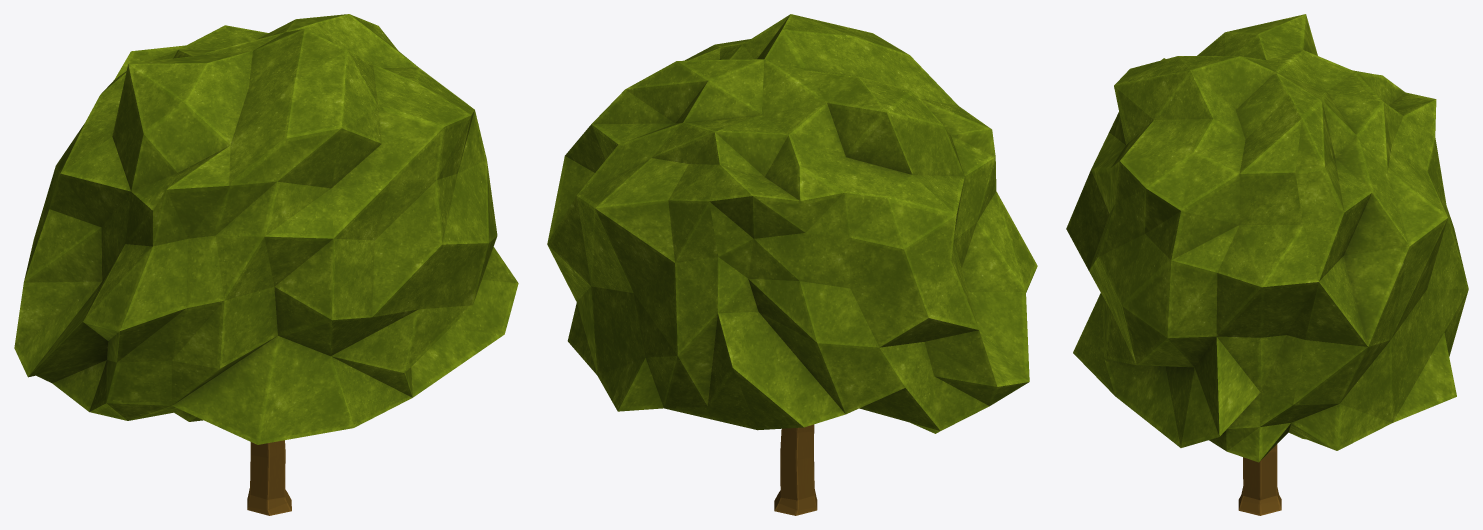
File: OakTree.obj
3 renders of one model, left to right at view 1: azimuth 30°, elevation 25°; view 2: azimuth 150°, elevation 25°; view 3: azimuth 270°, elevation 25°, orthographic. The views are drawn at different scales.
Visible parts, largest first — view 1: OakTree_mesh; view 2: OakTree_mesh; view 3: OakTree_mesh.
Part boxes in pixels (x1,y1,x2,y2): OakTree_mesh: (14, 14, 518, 515); OakTree_mesh: (547, 14, 1037, 515); OakTree_mesh: (1066, 14, 1468, 515).
Size of the model in its own units: 16.1 by 15.69 by 12.42.
Materials: 1 (1 with a texture image).
